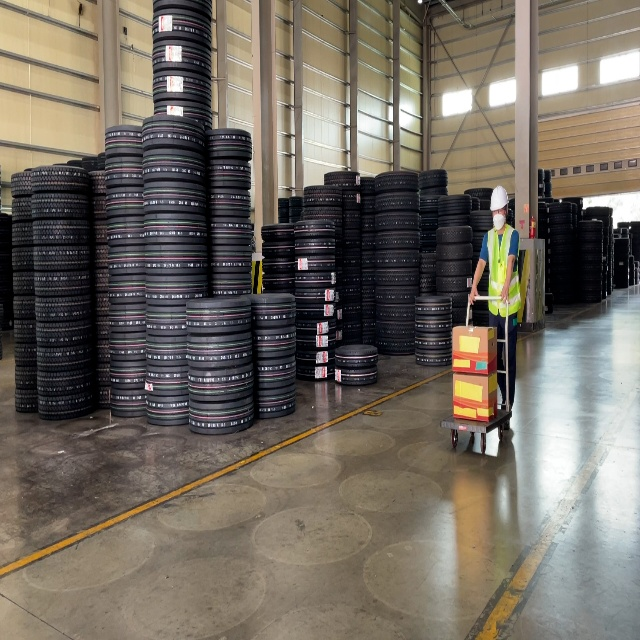Box: (452, 371, 498, 423), (452, 325, 498, 376)
Worker: (468, 184, 521, 431)
